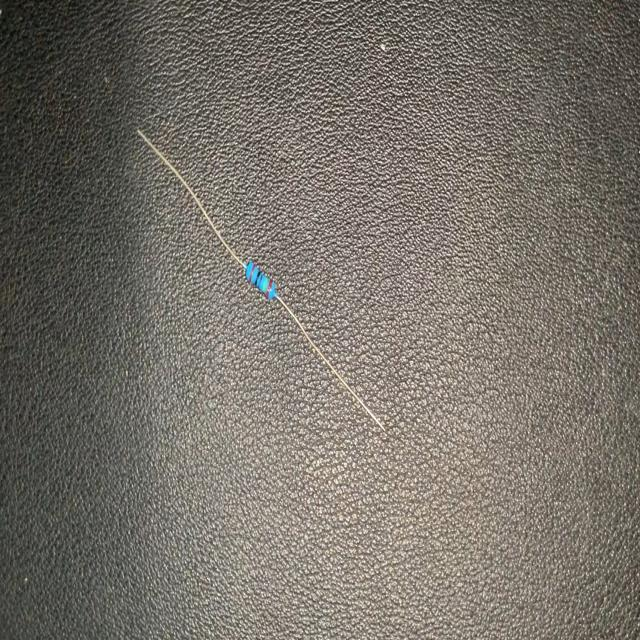resistor: (132, 118, 396, 444)
